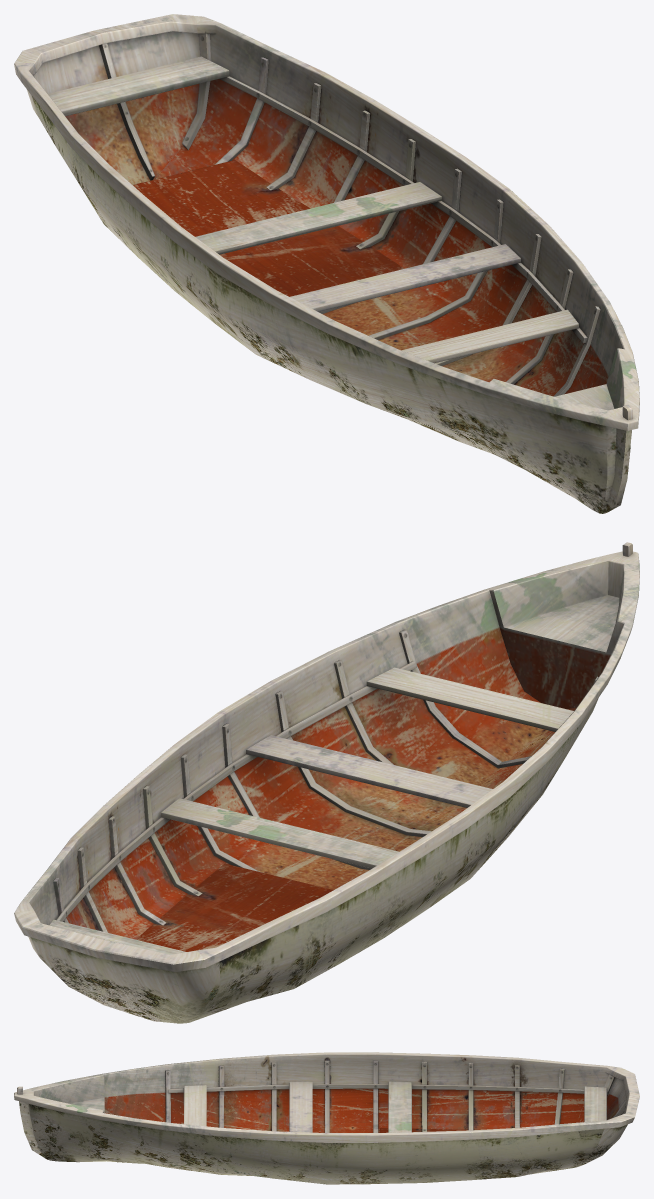
The model's file is wooden_boat.glb.
The picture shows the model from 3 angles, top to bottom: view 1: azimuth 30°, elevation 25°; view 2: azimuth 150°, elevation 25°; view 3: azimuth 270°, elevation 25°; orthographic projection. The views are drawn at different scales.
Visible parts, largest first — view 1: Object_2; view 2: Object_2; view 3: Object_2.
Part boxes in pixels (bbox=[...]): Object_2: bbox=[14, 14, 639, 513]; Object_2: bbox=[14, 542, 639, 1023]; Object_2: bbox=[14, 1052, 639, 1184].
Size of the model in its own units: 106 by 46.03 by 339.
Materials: 1 (1 with a texture image).
